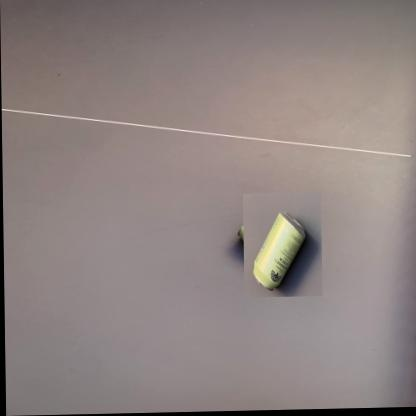trash: (253, 212, 305, 288)
